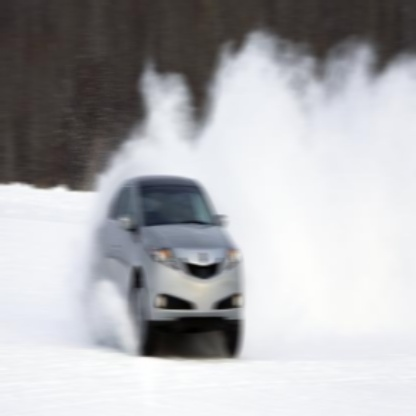Vehicle: (94, 177, 242, 358)
